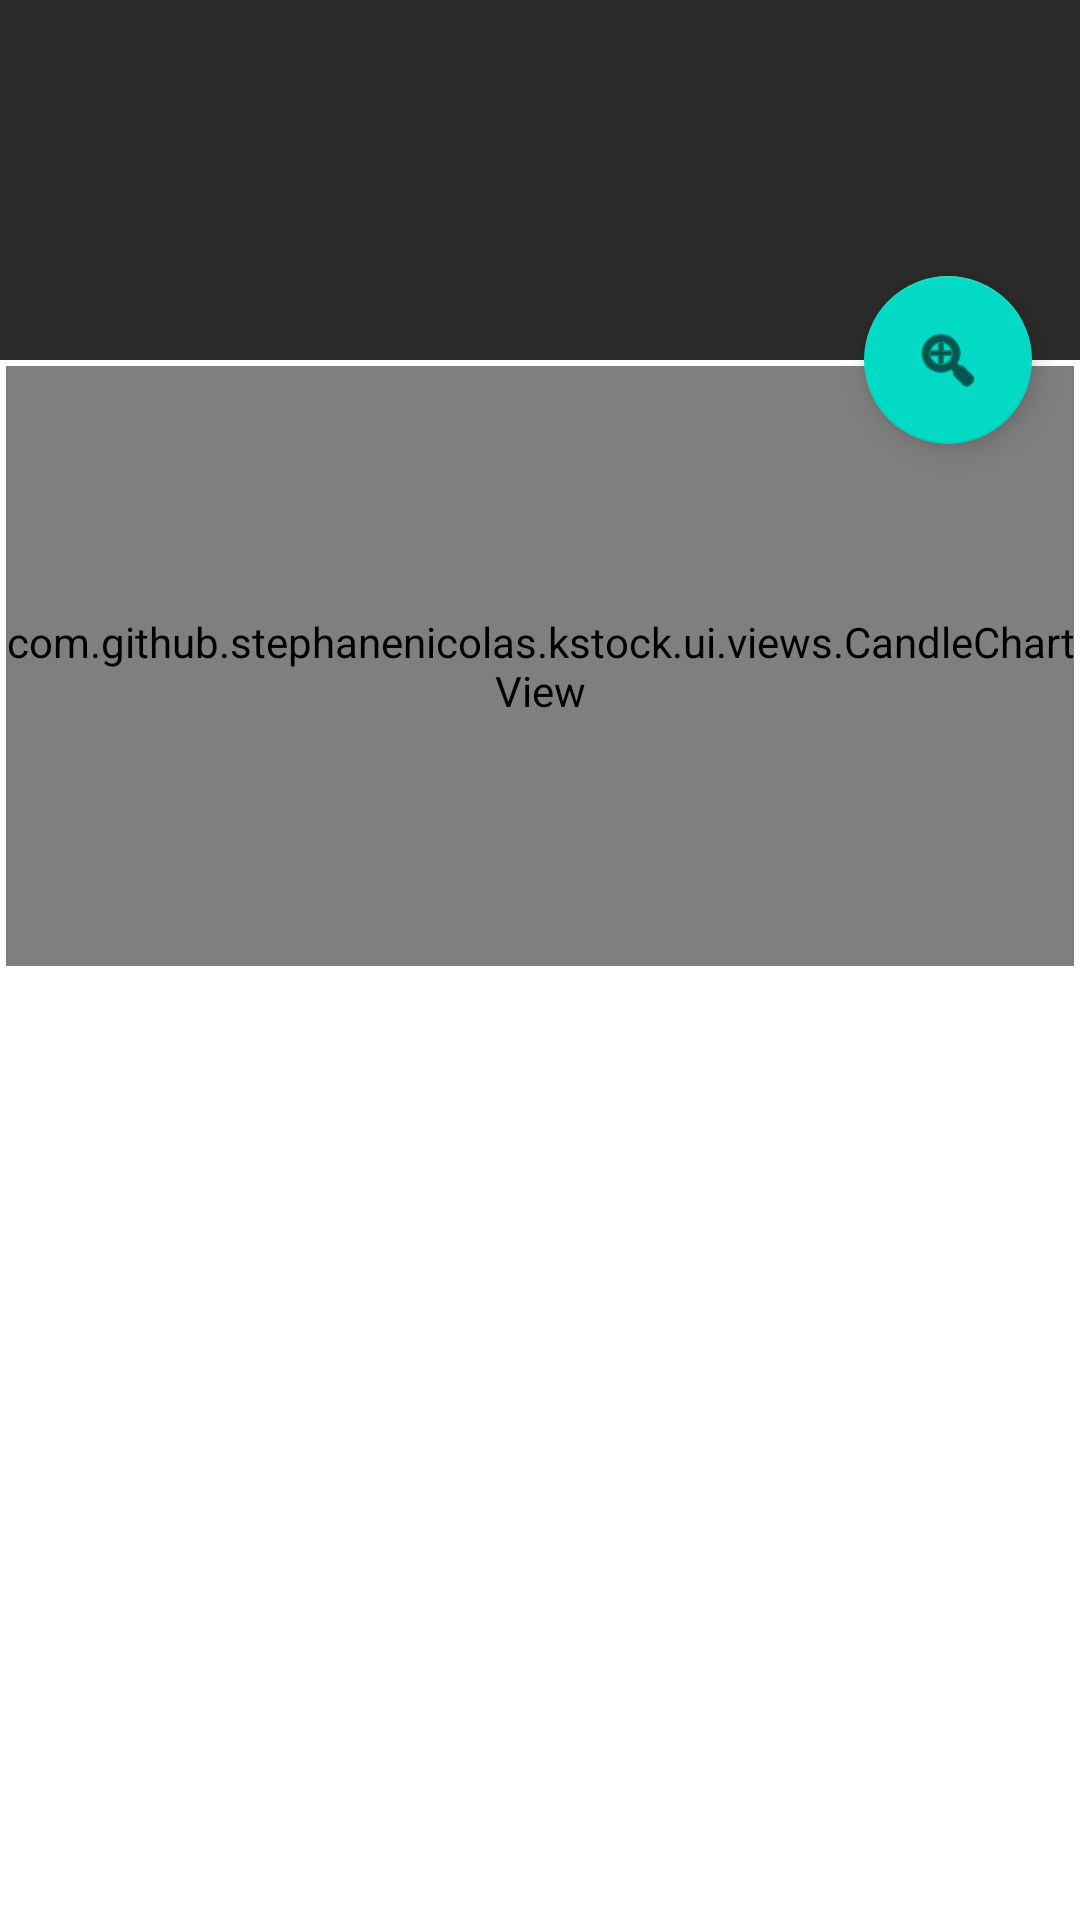

Icons on this 1080px x 1920px Android screen, each with the point to tap as [x,y]:
zoom: [948,360]
